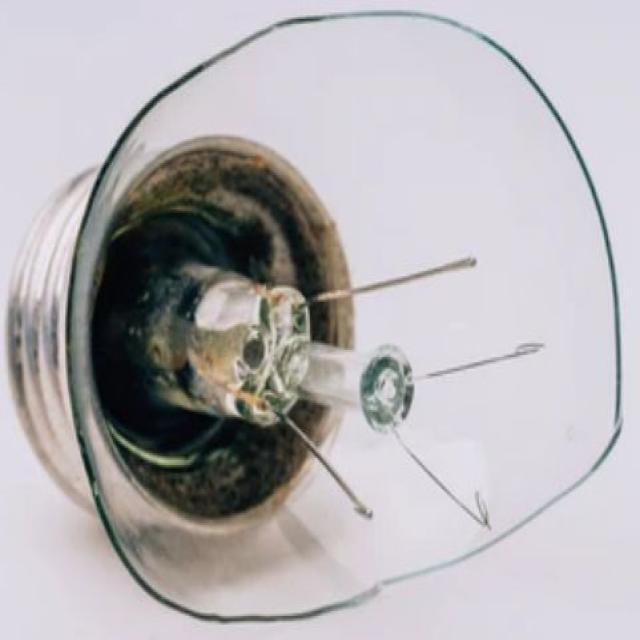electronic: (3, 5, 624, 623), (129, 258, 313, 428), (358, 342, 414, 432)
